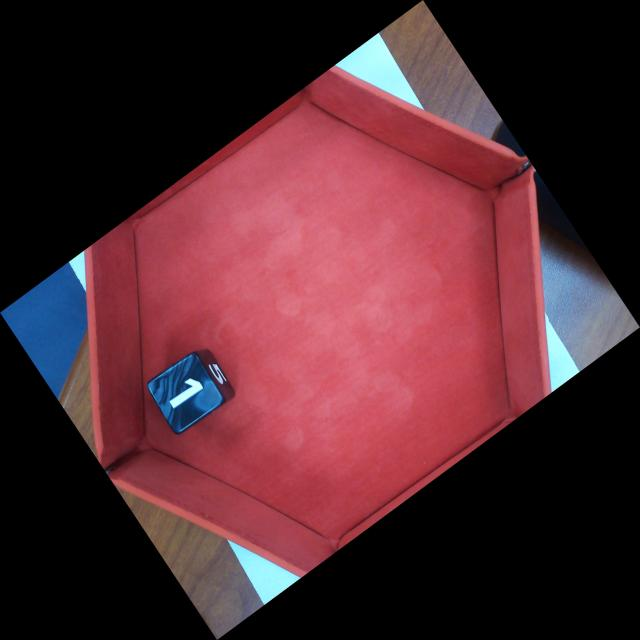dice: (150, 350, 230, 433)
